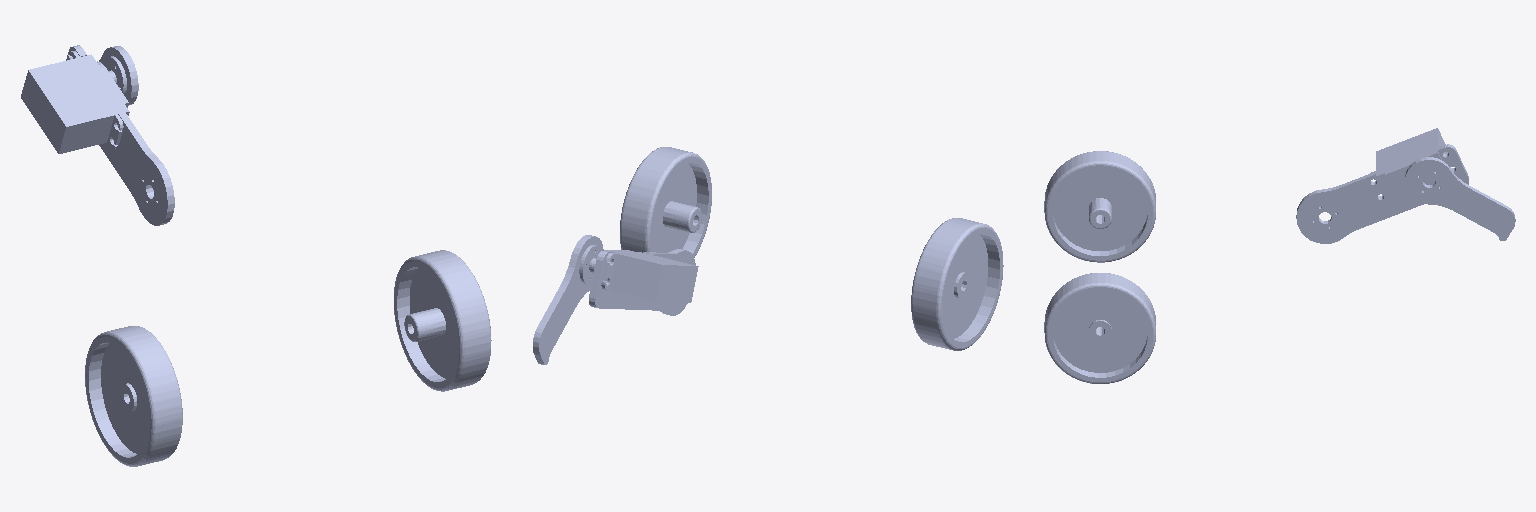
robot.urdf — Assem1.SLDASM:
<?xml version="1.0" encoding="utf-8"?>
<!-- This URDF was automatically created by SolidWorks to URDF Exporter! Originally created by [author] ([email redacted]) 
     Commit Version: 1.6.0-4-g7f85cfe  Build Version: 1.6.7995.38578
     For more information, please see http://wiki.ros.org/sw_urdf_exporter -->
<robot
  name="Assem1.SLDASM">
  <link
    name="base_link">
    <inertial>
      <origin
        xyz="0.17083 0.20648 -0.11785"
        rpy="0 0 0" />
      <mass
        value="0.17195" />
      <inertia
        ixx="0.00052037"
        ixy="1.3913E-07"
        ixz="-1.1765E-06"
        iyy="0.00068873"
        iyz="1.9594E-07"
        izz="0.00018815" />
    </inertial>
    <visual>
      <origin
        xyz="0 0 0"
        rpy="0 0 0" />
      <geometry>
        <mesh
          filename="[local-path]\\Crawler\\Assem1.SLDASM\\meshes\\base_link.STL" />
      </geometry>
      <material
        name="">
        <color
          rgba="0.79216 0.81961 0.93333 1" />
      </material>
    </visual>
    <collision>
      <origin
        xyz="0 0 0"
        rpy="0 0 0" />
      <geometry>
        <mesh
          filename="package://Assem1.SLDASM/meshes/base_link.STL" />
      </geometry>
    </collision>
  </link>
  <link
    name="Right Wheel">
    <inertial>
      <origin
        xyz="0.0096363 -1.4572E-16 2.498E-16"
        rpy="0 0 0" />
      <mass
        value="0.030159" />
      <inertia
        ixx="2.1887E-05"
        ixy="-5.6453E-21"
        ixz="-1.5631E-21"
        iyy="1.1643E-05"
        iyz="4.2352E-22"
        izz="1.1643E-05" />
    </inertial>
    <visual>
      <origin
        xyz="0 0 0"
        rpy="0 0 0" />
      <geometry>
        <mesh
          filename="package://Assem1.SLDASM/meshes/Right Wheel.STL" />
      </geometry>
      <material
        name="">
        <color
          rgba="0.79216 0.81961 0.93333 1" />
      </material>
    </visual>
    <collision>
      <origin
        xyz="0 0 0"
        rpy="0 0 0" />
      <geometry>
        <mesh
          filename="package://Assem1.SLDASM/meshes/Right Wheel.STL" />
      </geometry>
    </collision>
  </link>
  <joint
    name="Right Wheel motor"
    type="continuous">
    <origin
      xyz="0.066969 0.049799 0.20951"
      rpy="2.8701 0 0" />
    <parent
      link="base_link" />
    <child
      link="Right Wheel" />
    <axis
      xyz="1 0 0" />
  </joint>
  <link
    name="Left wheel">
    <inertial>
      <origin
        xyz="0.017364 0 0"
        rpy="0 0 0" />
      <mass
        value="0.030159" />
      <inertia
        ixx="2.1887E-05"
        ixy="9.9881E-21"
        ixz="1.1781E-21"
        iyy="1.1643E-05"
        iyz="-3.8798E-22"
        izz="1.1643E-05" />
    </inertial>
    <visual>
      <origin
        xyz="0 0 0"
        rpy="0 0 0" />
      <geometry>
        <mesh
          filename="package://Assem1.SLDASM/meshes/Left wheel.STL" />
      </geometry>
      <material
        name="">
        <color
          rgba="0.79216 0.81961 0.93333 1" />
      </material>
    </visual>
    <collision>
      <origin
        xyz="0 0 0"
        rpy="0 0 0" />
      <geometry>
        <mesh
          filename="package://Assem1.SLDASM/meshes/Left wheel.STL" />
      </geometry>
    </collision>
  </link>
  <joint
    name="left wheel motor"
    type="continuous">
    <origin
      xyz="0.23297 0.049799 0.20951"
      rpy="1.5708 0 0" />
    <parent
      link="base_link" />
    <child
      link="Left wheel" />
    <axis
      xyz="1 0 0" />
  </joint>
  <link
    name="Link1">
    <inertial>
      <origin
        xyz="0.022633 0.036293 -0.039596"
        rpy="0 0 0" />
      <mass
        value="0.040888" />
      <inertia
        ixx="1.4841E-05"
        ixy="-8.741E-08"
        ixz="1.0825E-07"
        iyy="1.3018E-05"
        iyz="5.4384E-06"
        izz="9.564E-06" />
    </inertial>
    <visual>
      <origin
        xyz="0 0 0"
        rpy="0 0 0" />
      <geometry>
        <mesh
          filename="package://Assem1.SLDASM/meshes/Link1.STL" />
      </geometry>
      <material
        name="">
        <color
          rgba="0.79216 0.81961 0.93333 1" />
      </material>
    </visual>
    <collision>
      <origin
        xyz="0 0 0"
        rpy="0 0 0" />
      <geometry>
        <mesh
          filename="package://Assem1.SLDASM/meshes/Link1.STL" />
      </geometry>
    </collision>
  </link>
  <joint
    name="Movable link1"
    type="revolute">
    <origin
      xyz="0.13447 0.18641 0.24486"
      rpy="1.2932 0 0" />
    <parent
      link="base_link" />
    <child
      link="Link1" />
    <axis
      xyz="1 0 0" />
    <limit effort="100" lower="1.57" upper="-1.2" velocity="100"/>

  </joint>
  <link
    name="Link2">
    <inertial>
      <origin
        xyz="0.002 -0.016351 -0.012166"
        rpy="0 0 0" />
      <mass
        value="0.0059381" />
      <inertia
        ixx="2.9344E-06"
        ixy="-5.2841E-23"
        ixz="-4.6606E-23"
        iyy="1.1103E-06"
        iyz="-1.1561E-06"
        izz="1.8399E-06" />
    </inertial>
    <visual>
      <origin
        xyz="0 0 0"
        rpy="0 0 0" />
      <geometry>
        <mesh
          filename="package://Assem1.SLDASM/meshes/Link2.STL" />
      </geometry>
      <material
        name="">
        <color
          rgba="0.79216 0.81961 0.93333 1" />
      </material>
    </visual>
    <collision>
      <origin
        xyz="0 0 0"
        rpy="0 0 0" />
      <geometry>
        <mesh
          filename="package://Assem1.SLDASM/meshes/Link2.STL" />
      </geometry>
    </collision>
  </link>
  <joint
    name="Movable link2"
    type="revolute">
    <origin
      xyz="0.047 0.048315 -0.05205"
      rpy="0.66128 0 0" />
    <parent
      link="Link1" />
    <child
      link="Link2" />
    <axis
      xyz="1 0 0" />
    <limit effort="100" lower="1.57" upper="-1.2" velocity="100"/>

  </joint>
</robot>

--- Facts derived from the render (not from the file) ---
Views: 3 orthographic renders of the robot side by side, from view 1: azimuth 30°, elevation 25°; view 2: azimuth 150°, elevation 25°; view 3: azimuth 270°, elevation 25°.
Robot: Assem1.SLDASM — 5 links, 4 joints (2 revolute, 2 continuous); root link base_link; default pose: all joints at 0.
Links seen in each view (by area): view 1: Link1, Right Wheel, Left wheel, Link2; view 2: Right Wheel, Left wheel, Link1, Link2; view 3: Right Wheel, Left wheel, Link1, Link2.
Boxes of the visible links, x1,y1,x2,y2 form: Link1: (21,45,174,225); Right Wheel: (85,326,182,466); Left wheel: (394,250,491,391); Link2: (99,46,138,105); Right Wheel: (911,218,1003,350); Left wheel: (620,147,711,257); Link1: (579,245,698,315); Link2: (533,235,603,364); Right Wheel: (1044,151,1155,262); Left wheel: (1044,273,1155,383); Link1: (1296,128,1468,243); Link2: (1405,157,1515,240).
Size in the robot's own frame: 0.193 by 0.2863 by 0.117 metres.
Meshes: 4 distinct files referenced, 4 mesh visuals loaded (4 binary STL); not drawn: 1 (reference in a form the renderer does not follow; not among the files counted above).